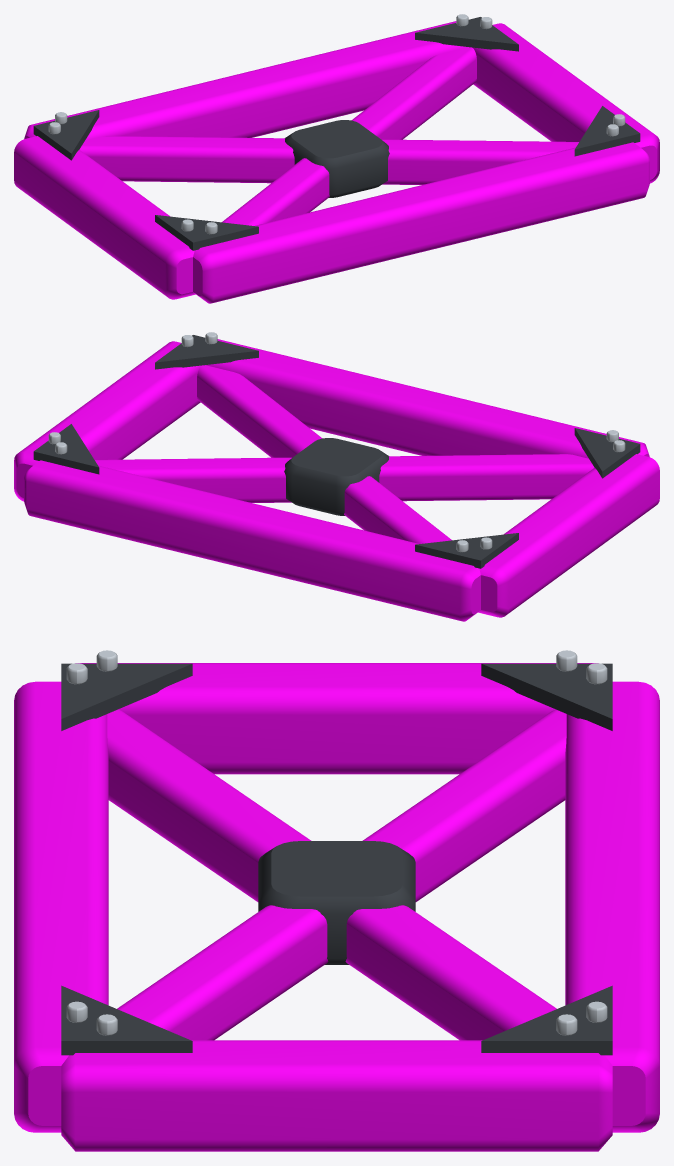
The model's file is objet_chassis_renforce.glb.
3 views of the same model, one above another, from view 1: azimuth 30°, elevation 25°; view 2: azimuth 150°, elevation 25°; view 3: azimuth 270°, elevation 25° (orthographic). The views are drawn at different scales.
Parts seen in each view (by area): view 1: chassis_teinte.008, chassis_teinte_sombre.004, chassis_boulon.004; view 2: chassis_teinte.008, chassis_teinte_sombre.004, chassis_boulon.004; view 3: chassis_teinte.008, chassis_teinte_sombre.004, chassis_boulon.004.
Boxes of the visible parts, box(x1,y1,x2,y2) form: chassis_teinte.008: box(14, 21, 659, 303); chassis_teinte_sombre.004: box(33, 17, 640, 250); chassis_boulon.004: box(48, 14, 625, 234); chassis_teinte.008: box(14, 339, 659, 621); chassis_teinte_sombre.004: box(33, 335, 640, 568); chassis_boulon.004: box(48, 332, 625, 552); chassis_teinte.008: box(14, 663, 659, 1151); chassis_teinte_sombre.004: box(61, 663, 612, 1055); chassis_boulon.004: box(66, 650, 607, 1035).
Size of the model in its own units: 0.376 by 0.048 by 0.246.
